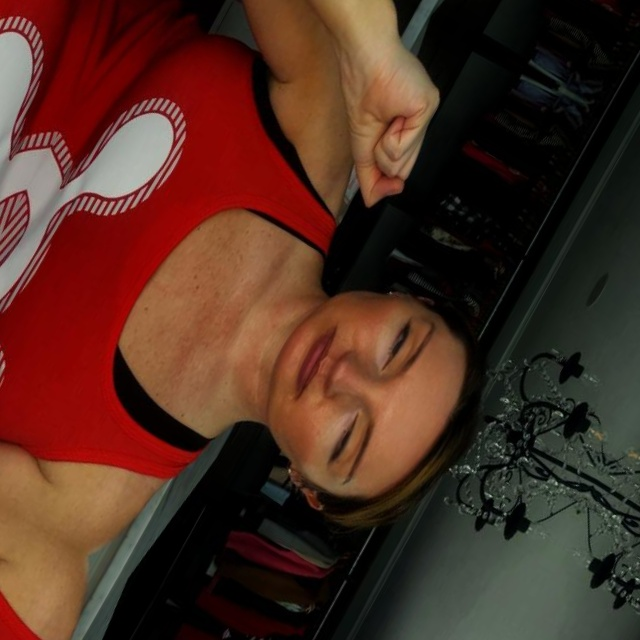Rock: (302, 31, 465, 219)
